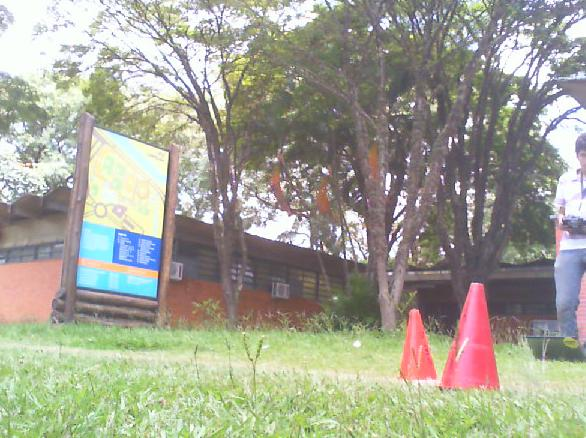0 cone: (439, 284, 501, 390), (390, 310, 437, 385)
